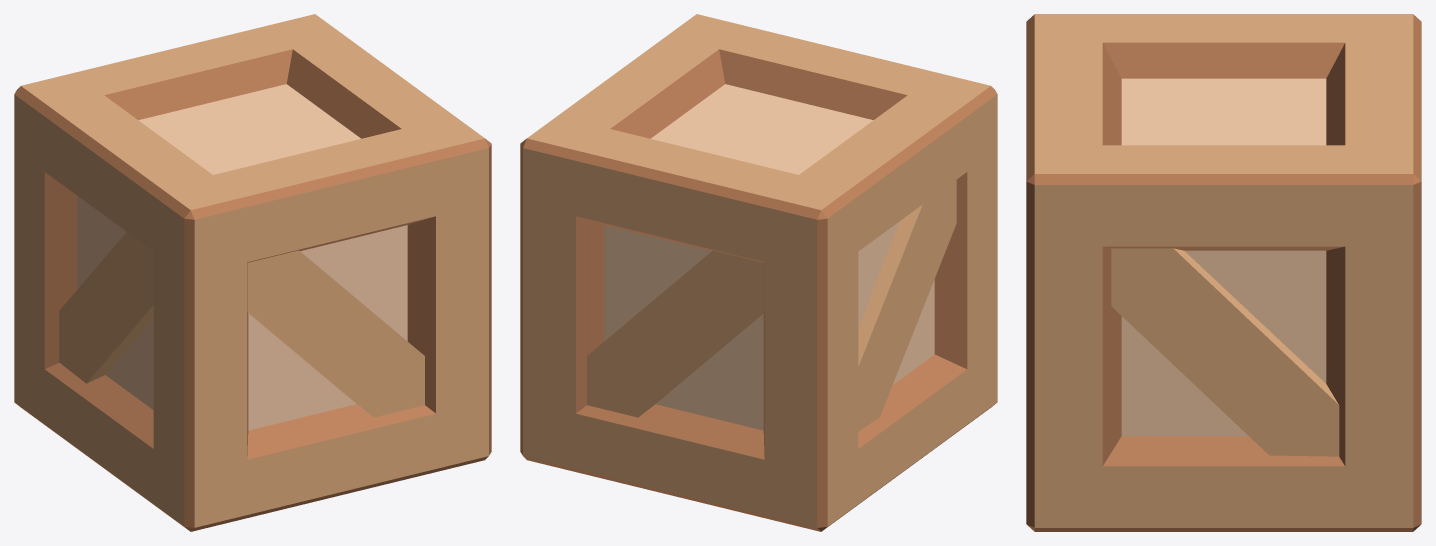
The model's file is woodBox.fbx.
3 renders of one model, left to right at view 1: azimuth 30°, elevation 25°; view 2: azimuth 150°, elevation 25°; view 3: azimuth 270°, elevation 25°, orthographic. The views are drawn at different scales.
Parts seen in each view (by area): view 1: Cube, 立方体, 立方体.001; view 2: Cube, 立方体, 立方体.001; view 3: Cube, 立方体.001.
Part boxes in pixels (x1,y1,x2,y2): Cube: [14, 14, 491, 531]; 立方体: [247, 250, 424, 417]; 立方体.001: [59, 232, 153, 383]; Cube: [520, 14, 997, 531]; 立方体: [587, 250, 764, 417]; 立方体.001: [858, 180, 956, 431]; Cube: [1026, 14, 1421, 531]; 立方体.001: [1111, 248, 1339, 456].
Size of the model in its own units: 100 by 100 by 100.
